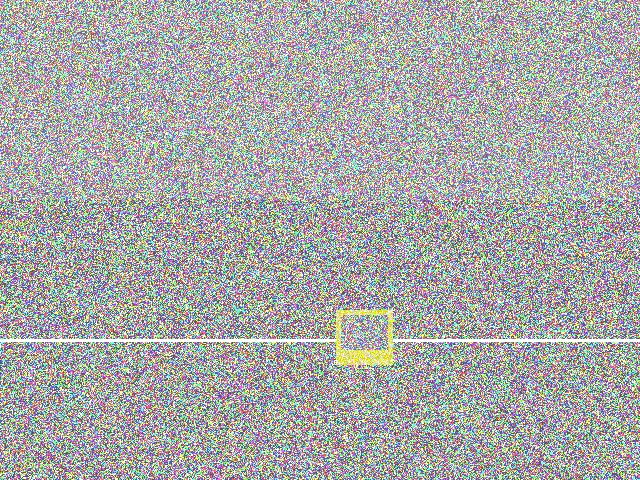bus: (479, 270, 609, 375), (177, 140, 275, 207)
truck: (454, 213, 640, 351)
